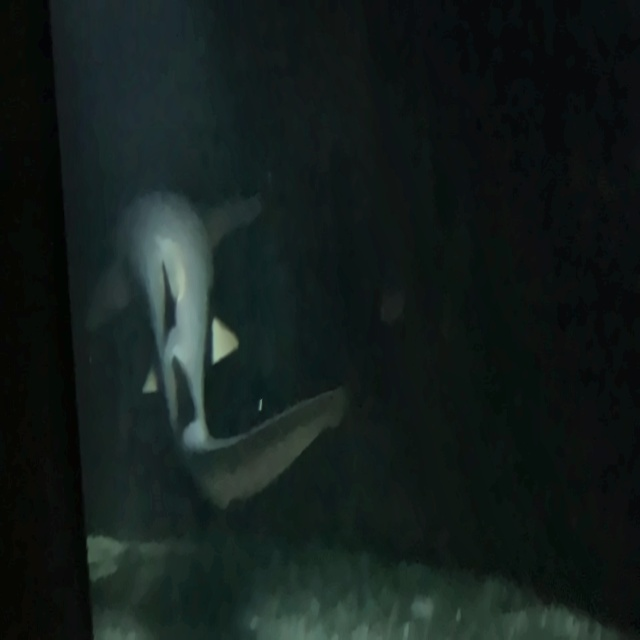shark: (79, 180, 349, 514)
